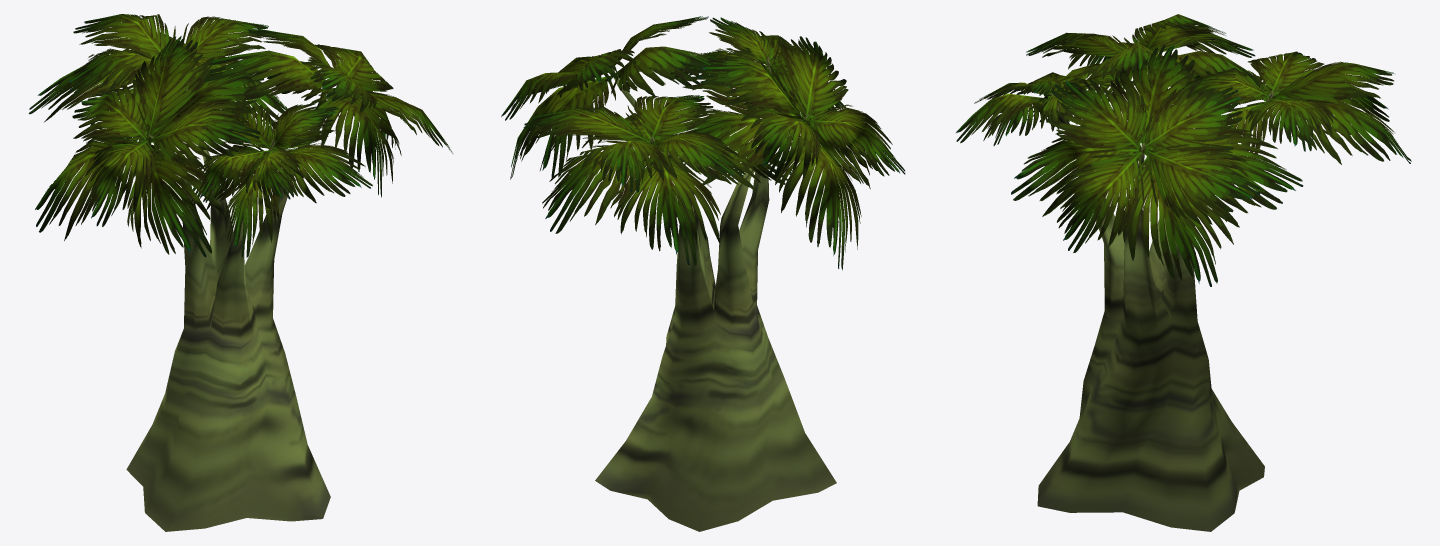
File: StrangeTree(2SideLeafs).fbx
The picture shows the model from 3 angles, left to right: view 1: azimuth 30°, elevation 25°; view 2: azimuth 150°, elevation 25°; view 3: azimuth 270°, elevation 25°; orthographic projection. The views are drawn at different scales.
Visible parts, largest first — view 1: Cylinder.002; view 2: Cylinder.002; view 3: Cylinder.002.
Boxes of the visible parts, x1,y1,x2,y2 form: Cylinder.002: (28,14,452,531); Cylinder.002: (501,16,905,531); Cylinder.002: (956,14,1411,531).
Size of the model in its own units: 198 by 228 by 221.
